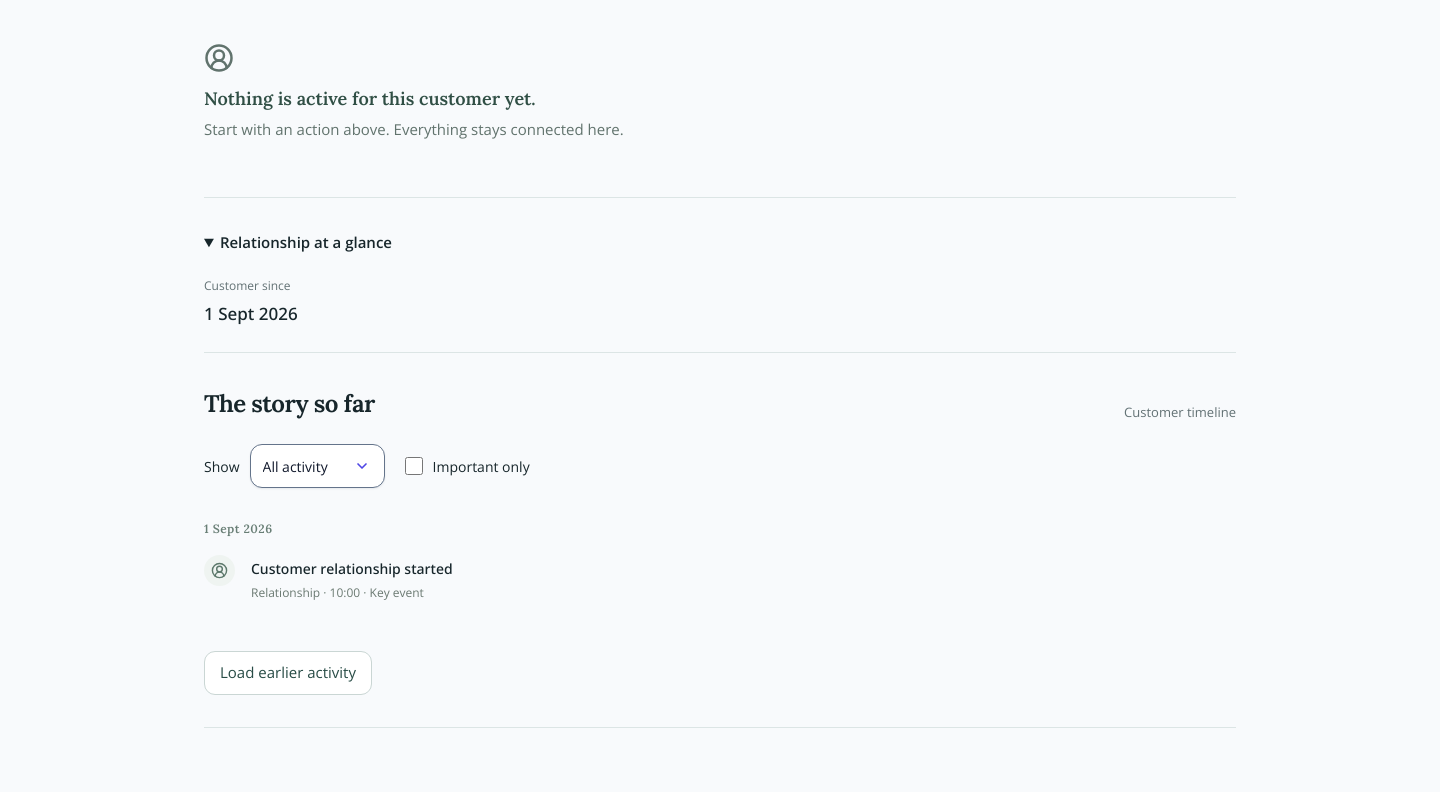
Customer 360 › preserves the cursor when an optional source fails on a later page
The width and height of the screenshot is (1440, 792).
(page scrolled)
Expected: the text "Customer relationship started" is shown, x1=251 y1=555 x2=453 y2=580
Click the button "Load earlier activity".
click(288, 673)  # box x1=204 y1=651 x2=372 y2=695
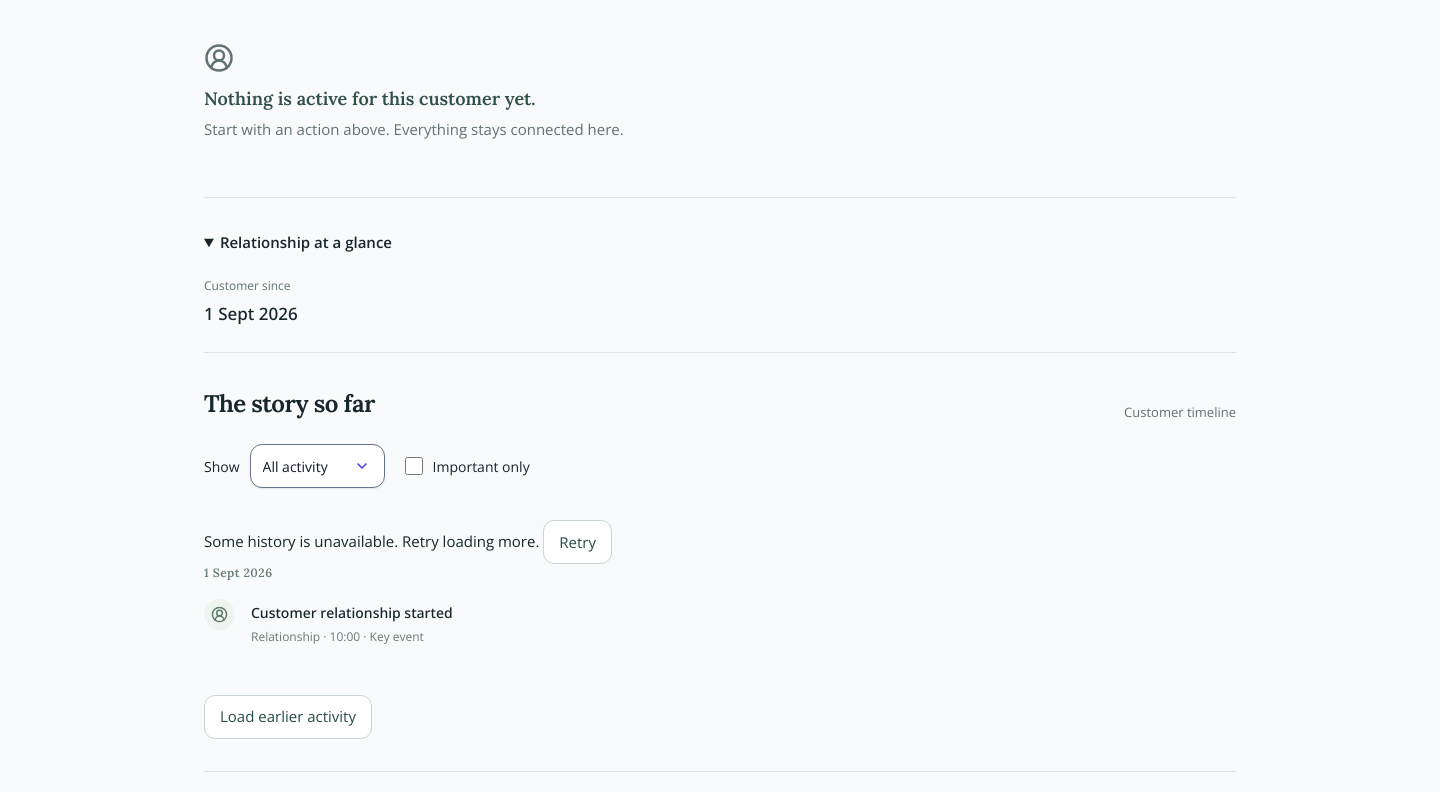
Expected: the text "Customer relationship started" is shown, x1=251 y1=599 x2=453 y2=624
Now the text "Some history is unavailable. Retry loading more." is shown, box x1=204 y1=532 x2=539 y2=552
